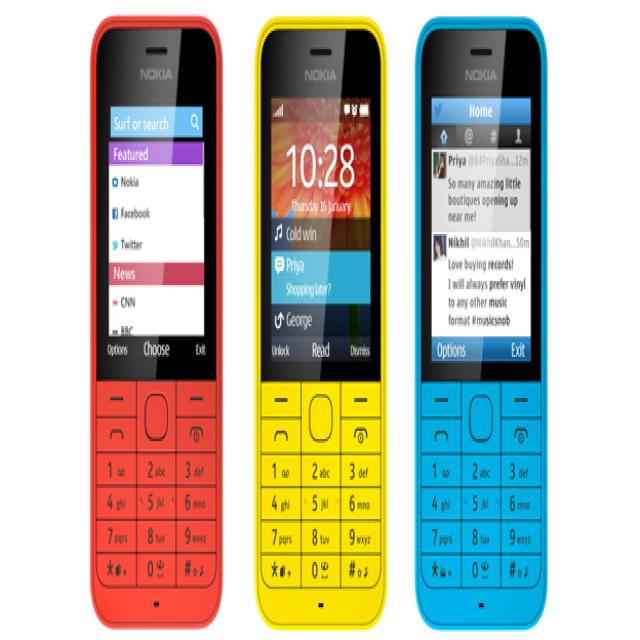mobile phone: (413, 14, 548, 630), (89, 12, 223, 628), (253, 14, 387, 630)
